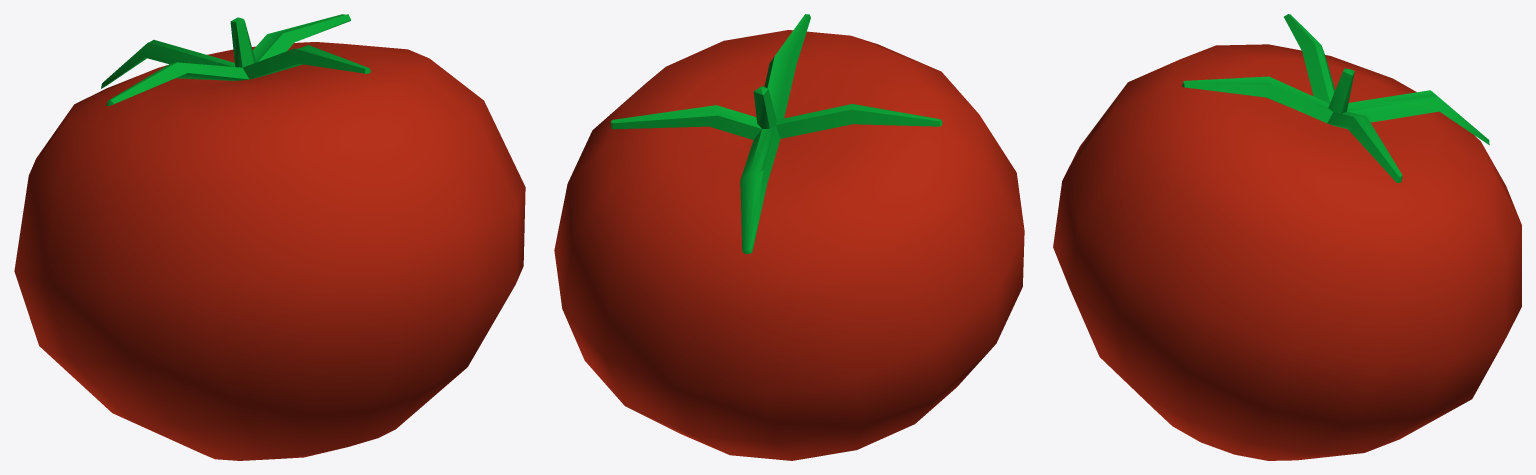
Rendered from mdl_tomato.fbx.
The picture shows the model from 3 angles, left to right: view 1: azimuth 30°, elevation 25°; view 2: azimuth 150°, elevation 25°; view 3: azimuth 270°, elevation 25°; orthographic projection. The views are drawn at different scales.
Visible parts, largest first — view 1: TOMATO1.001; view 2: TOMATO1.001; view 3: TOMATO1.001.
Part boxes in pixels (x1,y1,x2,y2): TOMATO1.001: [14, 14, 525, 460]; TOMATO1.001: [554, 14, 1024, 460]; TOMATO1.001: [1053, 14, 1521, 460].
Bounding box in the file's own units: 17.2 × 14.84 × 16.79.
